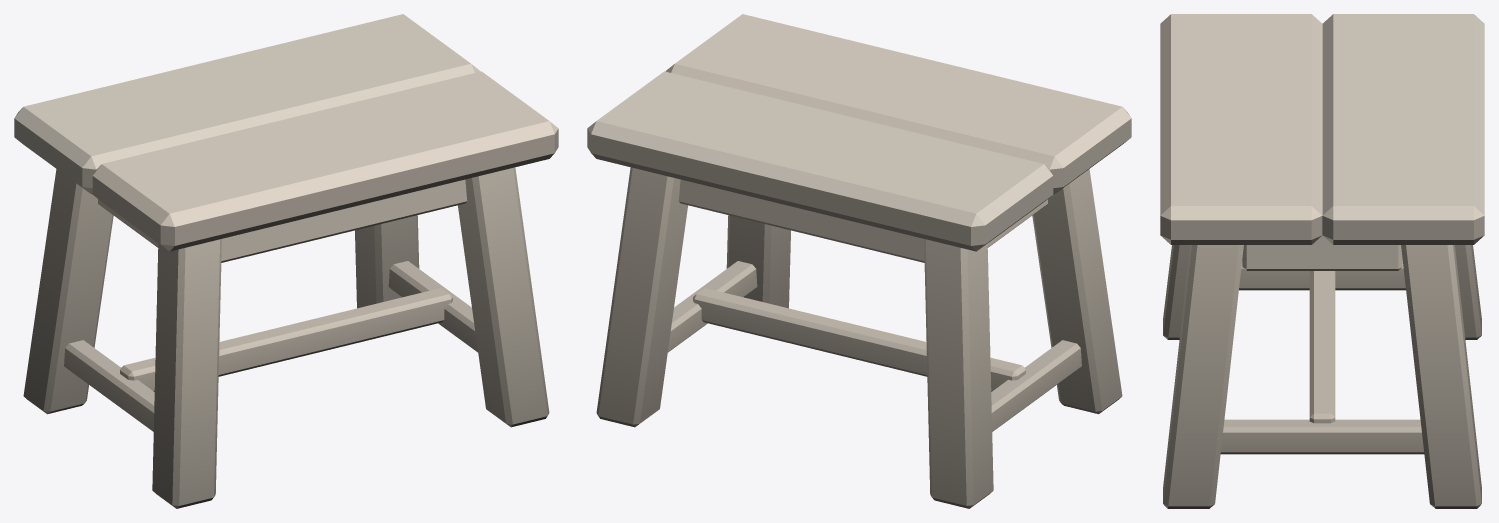
The model's file is SM_VKI_Prop_Table_Small.fbx.
The picture shows the model from 3 angles, left to right: view 1: azimuth 30°, elevation 25°; view 2: azimuth 150°, elevation 25°; view 3: azimuth 270°, elevation 25°; orthographic projection. The views are drawn at different scales.
Parts seen in each view (by area): view 1: SM_VKI_Prop_Table_Small.001; view 2: SM_VKI_Prop_Table_Small.001; view 3: SM_VKI_Prop_Table_Small.001.
Boxes of the visible parts, bbox=[...] form: SM_VKI_Prop_Table_Small.001: bbox=[14, 14, 558, 508]; SM_VKI_Prop_Table_Small.001: bbox=[587, 14, 1131, 508]; SM_VKI_Prop_Table_Small.001: bbox=[1160, 14, 1484, 508].
Bounding box in the file's own units: 1.1 × 0.78 × 0.75.
